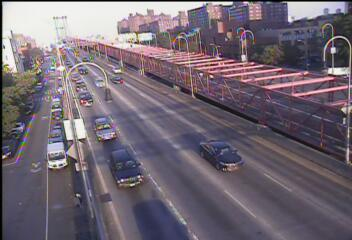neg: (294, 90, 323, 129), (18, 105, 43, 138), (130, 24, 152, 54), (182, 69, 203, 98), (21, 166, 42, 193), (157, 144, 177, 172), (60, 160, 80, 187), (114, 184, 133, 210), (242, 36, 260, 60), (247, 104, 264, 127), (112, 58, 127, 79), (206, 152, 220, 171), (278, 58, 292, 77), (62, 13, 76, 31), (36, 60, 48, 76), (78, 115, 90, 129)
